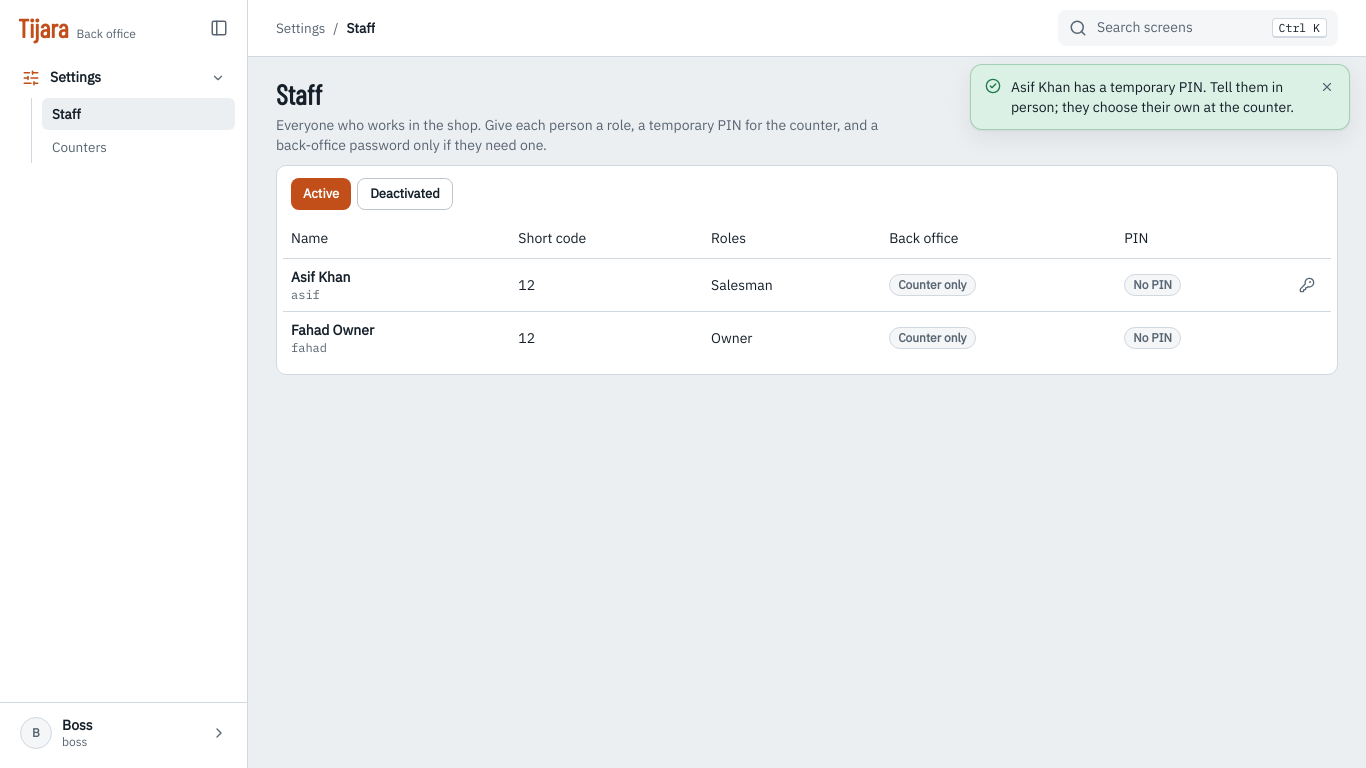
Staff › a manager has no PIN action for someone they may not give a PIN to (an Owner)
The image size is (1366, 768).
Step 1. Click the link "Fahad Owner" → (332, 330), box [291,321,374,339]
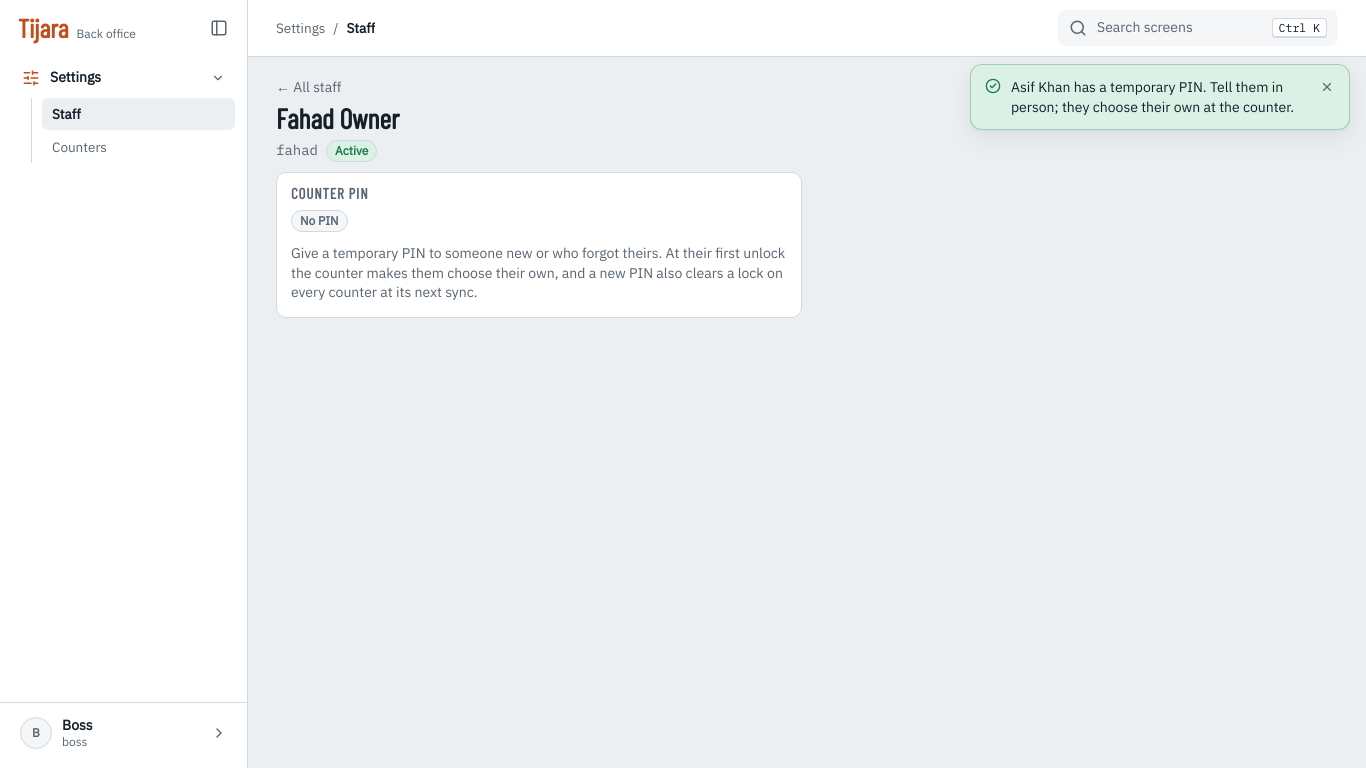
Now the heading "Fahad Owner" is shown, box [276,101,399,136]
